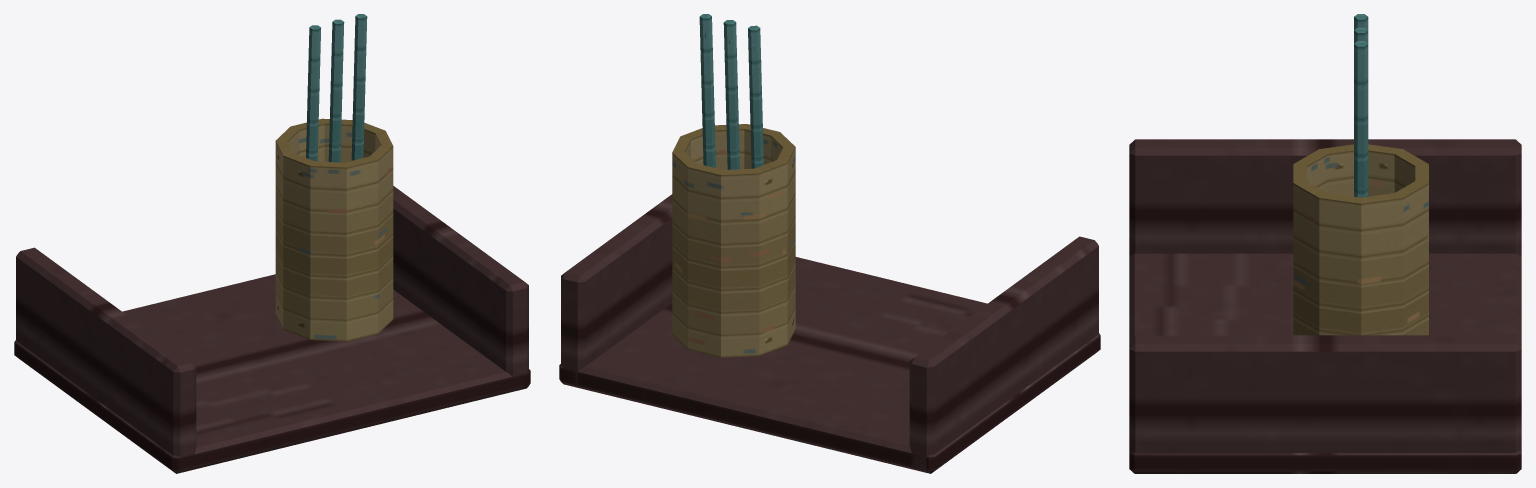
The model's file is MD_120_DeskOrganizer.fbx.
3 renders of one model, left to right at view 1: azimuth 30°, elevation 25°; view 2: azimuth 150°, elevation 25°; view 3: azimuth 270°, elevation 25°, orthographic. The views are drawn at different scales.
Visible parts, largest first — view 1: MD_120_DeskOrganizer_organizer_bottom, MD_120_DeskOrganizer_pen_cup, MD_120_DeskOrganizer_tray_side, MD_120_DeskOrganizer_tray_side.001, MD_120_DeskOrganizer_pen.002, MD_120_DeskOrganizer_pen.001, MD_120_DeskOrganizer_pen; view 2: MD_120_DeskOrganizer_organizer_bottom, MD_120_DeskOrganizer_pen_cup, MD_120_DeskOrganizer_tray_side, MD_120_DeskOrganizer_tray_side.001, MD_120_DeskOrganizer_pen.002, MD_120_DeskOrganizer_pen.001, MD_120_DeskOrganizer_pen; view 3: MD_120_DeskOrganizer_tray_side.001, MD_120_DeskOrganizer_tray_side, MD_120_DeskOrganizer_organizer_bottom, MD_120_DeskOrganizer_pen_cup, MD_120_DeskOrganizer_pen.002.
Part boxes in pixels (box(x1,y1,x2,y2)): MD_120_DeskOrganizer_organizer_bottom: box(14, 274, 530, 473); MD_120_DeskOrganizer_pen_cup: box(275, 118, 393, 341); MD_120_DeskOrganizer_tray_side: box(16, 247, 196, 465); MD_120_DeskOrganizer_tray_side.001: box(393, 186, 528, 376); MD_120_DeskOrganizer_pen.002: box(351, 14, 367, 160); MD_120_DeskOrganizer_pen.001: box(328, 19, 344, 162); MD_120_DeskOrganizer_pen: box(306, 25, 320, 161); MD_120_DeskOrganizer_organizer_bottom: box(559, 257, 1100, 473); MD_120_DeskOrganizer_pen_cup: box(672, 124, 795, 357); MD_120_DeskOrganizer_tray_side: box(909, 236, 1098, 470); MD_120_DeskOrganizer_tray_side.001: box(561, 194, 672, 385); MD_120_DeskOrganizer_pen.002: box(699, 14, 715, 167); MD_120_DeskOrganizer_pen.001: box(723, 20, 739, 169); MD_120_DeskOrganizer_pen: box(748, 25, 763, 168); MD_120_DeskOrganizer_tray_side.001: box(1129, 335, 1521, 452); MD_120_DeskOrganizer_tray_side: box(1129, 139, 1521, 255); MD_120_DeskOrganizer_organizer_bottom: box(1129, 253, 1521, 473); MD_120_DeskOrganizer_pen_cup: box(1293, 144, 1428, 335); MD_120_DeskOrganizer_pen.002: box(1354, 41, 1368, 197).
Size of the model in its own units: 0.28 by 0.2401 by 0.22.
Materials: 3 (3 with a texture image).
